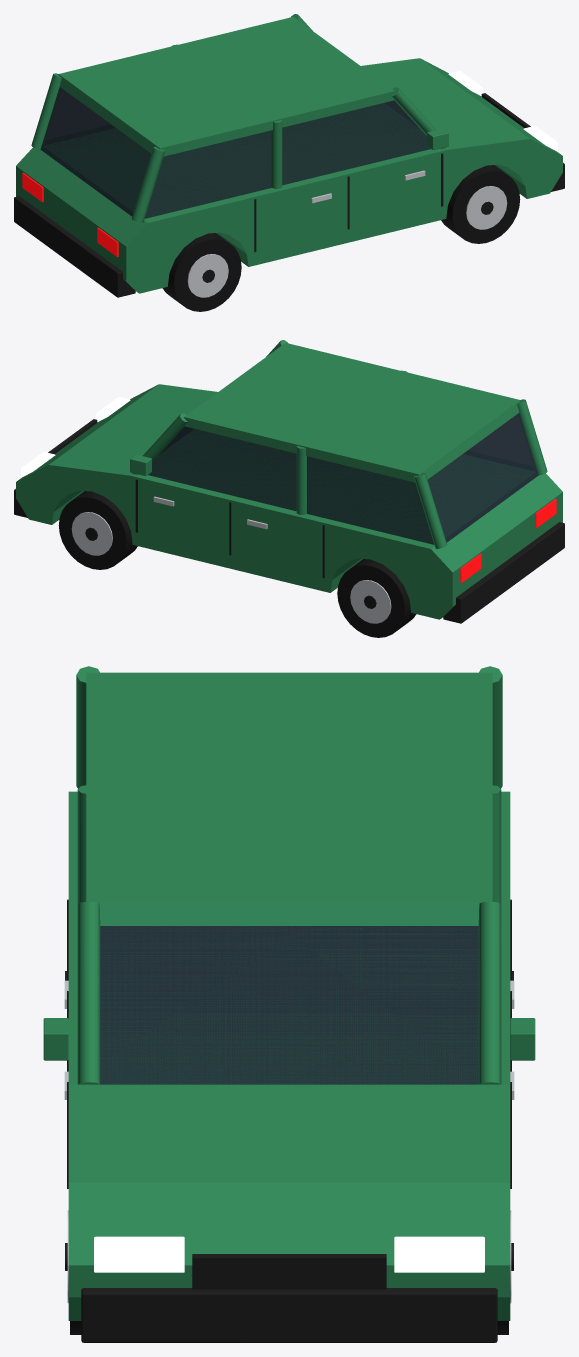
Rendered from a-realistic-green-hatchback-91400-realistic.glb.
The picture shows the model from 3 angles, top to bottom: view 1: azimuth 30°, elevation 25°; view 2: azimuth 150°, elevation 25°; view 3: azimuth 270°, elevation 25°; orthographic projection. The views are drawn at different scales.
Parts seen in each view (by area): view 1: car; view 2: car; view 3: car.
Boxes of the visible parts, left/top/right/bottom form: car: left=14, top=14, right=564, bottom=311; car: left=14, top=340, right=564, bottom=637; car: left=43, top=666, right=535, bottom=1342.
Size of the model in its own units: 4.1 by 1.51 by 1.95.
